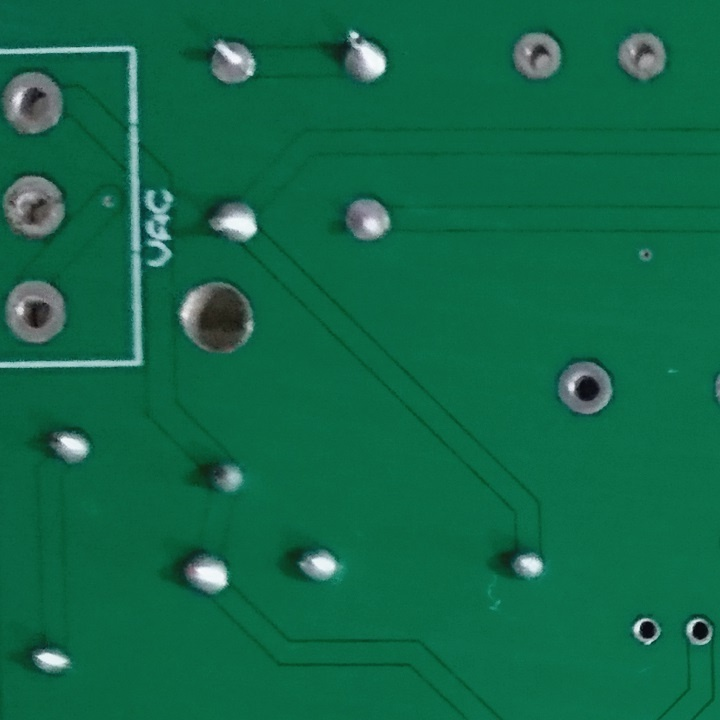F: (1, 277, 73, 347), (1, 69, 73, 135), (1, 172, 71, 238), (550, 354, 620, 419), (615, 28, 673, 88), (508, 26, 566, 85), (201, 35, 265, 86), (342, 192, 396, 242), (683, 615, 717, 652), (630, 614, 661, 648)
